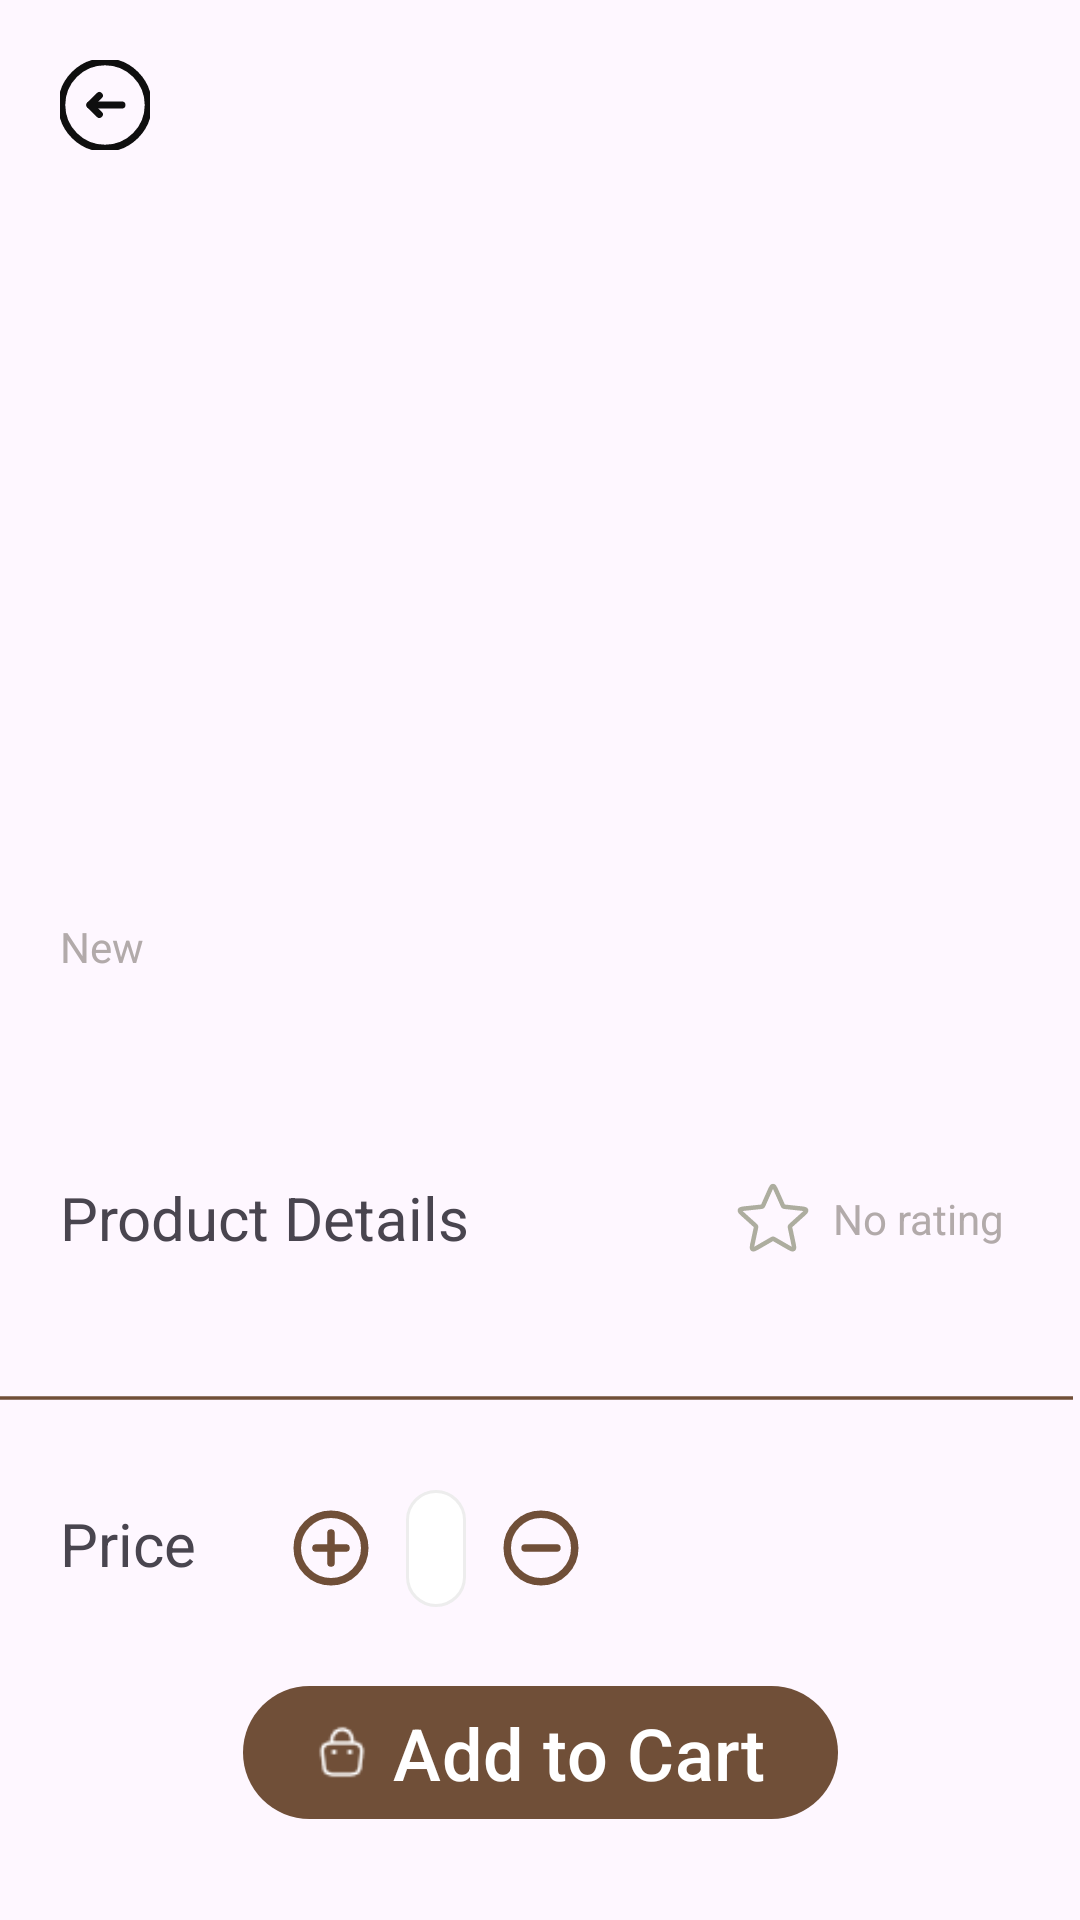

Icon bounding boxes for this 1080 x 1920 phone screenshot, format (x1, y1, x2, y2):
back: (60, 60, 150, 150)
decrease: (503, 1510, 579, 1586)
increase: (293, 1510, 369, 1586)
